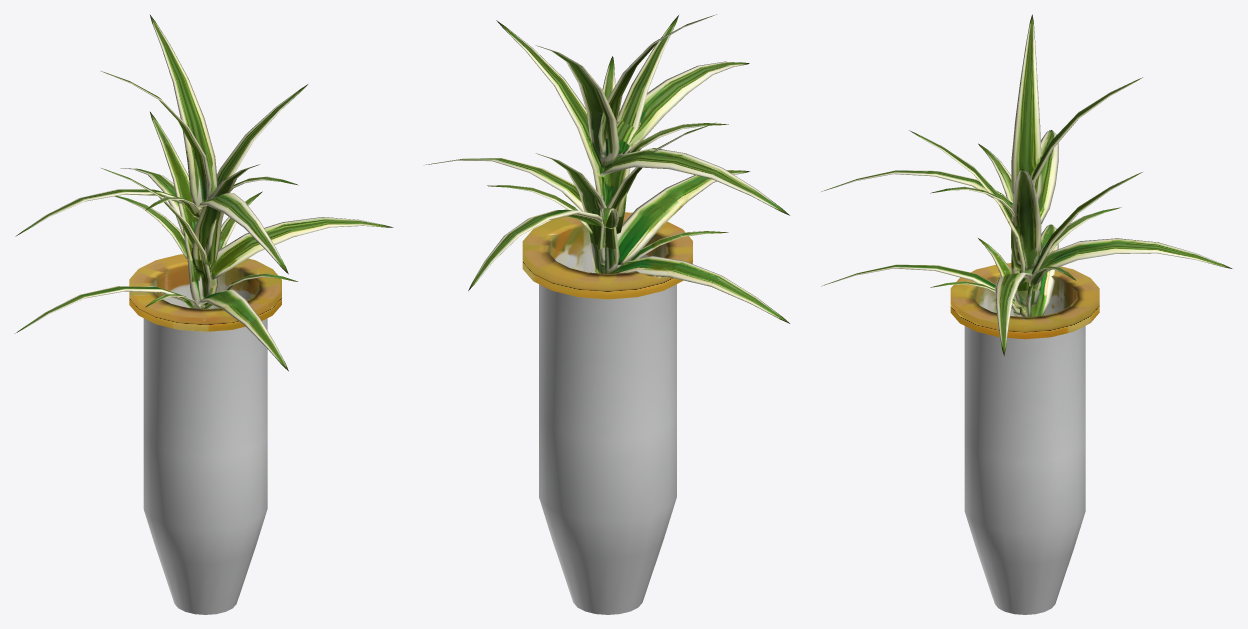
Rendered from plant2_0705045844_texture.fbx.
The picture shows the model from 3 angles, left to right: view 1: azimuth 30°, elevation 25°; view 2: azimuth 150°, elevation 25°; view 3: azimuth 270°, elevation 25°; orthographic projection. The views are drawn at different scales.
Visible parts, largest first — view 1: Mesh_0; view 2: Mesh_0; view 3: Mesh_0.
Boxes of the visible parts, box(x1,y1,x2,y2) form: Mesh_0: box(15, 15, 393, 614); Mesh_0: box(426, 14, 789, 614); Mesh_0: box(821, 14, 1232, 614).
Size of the model in its own units: 134 by 200 by 139.
Materials: 1 (1 with a texture image).
